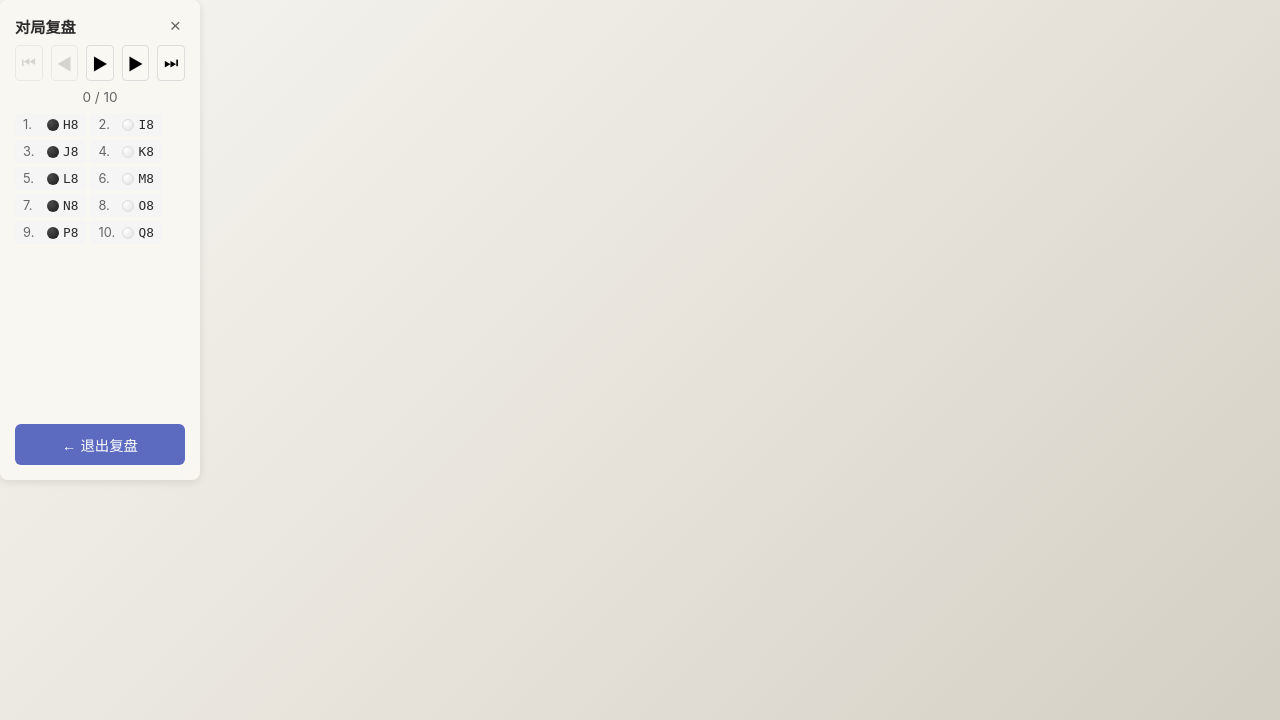
Scenario: ReplayPanel › auto play › should stop auto play on pause button click
What coordinates should you click on to do the following:
click the 1st button "▶"
I would click on:
 (100, 63)
Its box is [86,45,114,81].
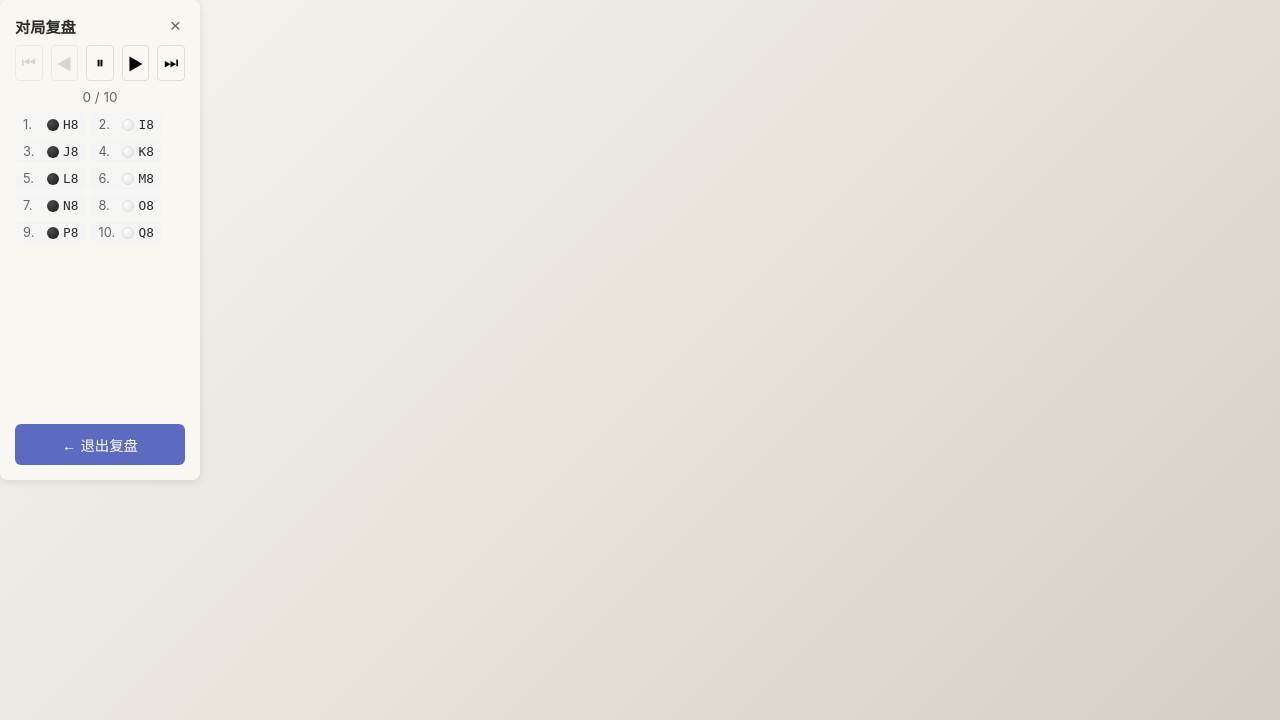
What coordinates should you click on to do the following:
click the button "⏸"
I would click on:
 (100, 63)
Its box is [86,45,114,81].
Wait 1600 ms
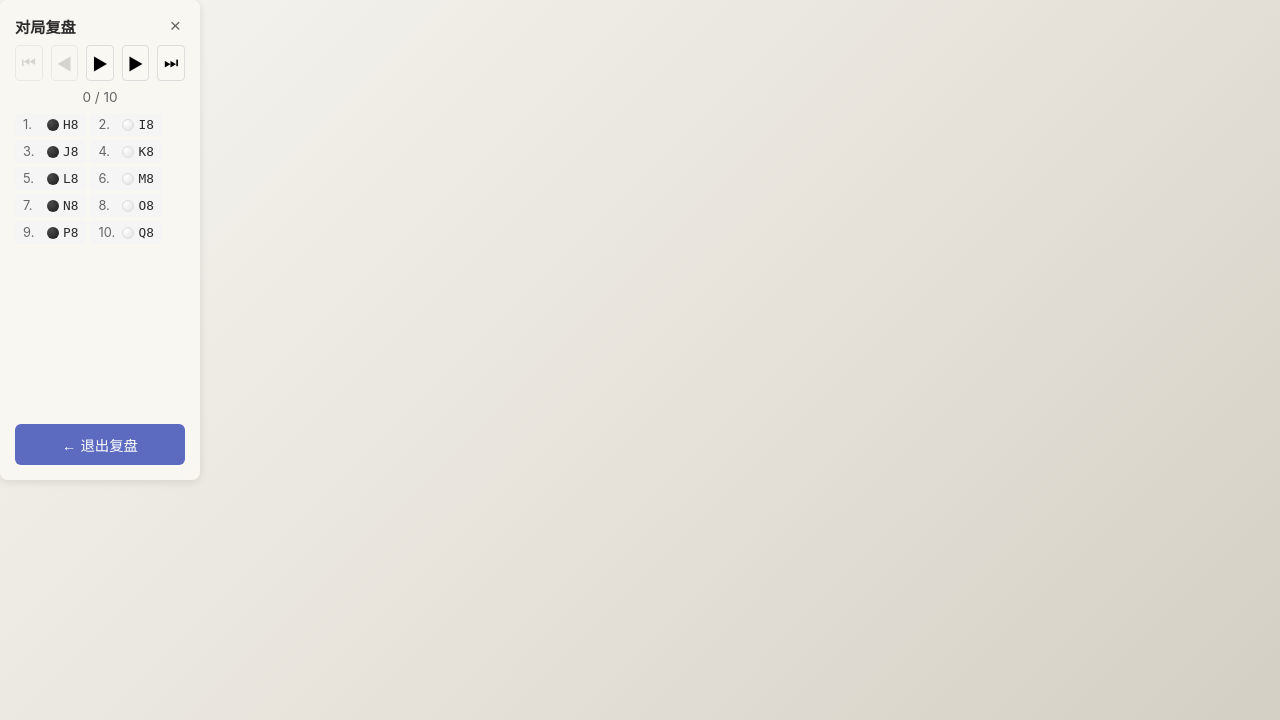
Expected: the 1st button "▶" is shown, [86,45,114,81]
